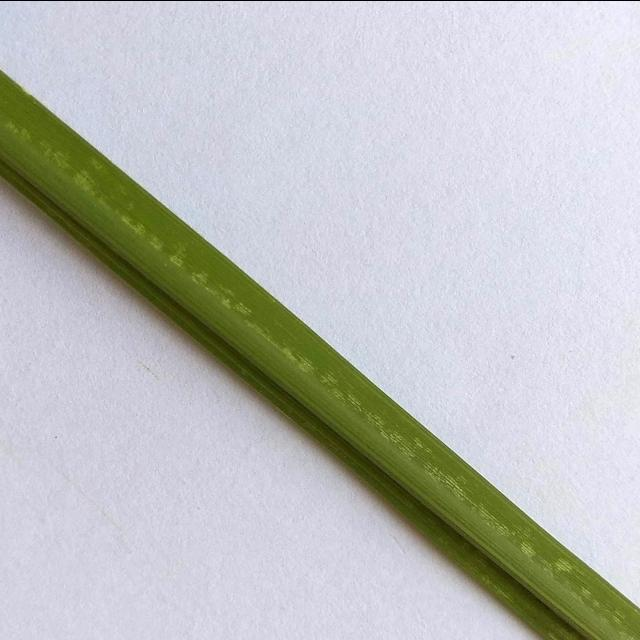healthy: (0, 45, 640, 640)
